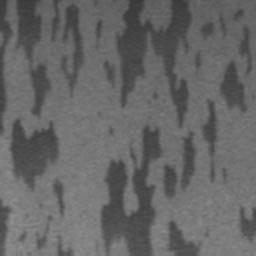Red iron sheet: (97, 0, 244, 256), (0, 0, 83, 192), (17, 178, 73, 256), (220, 26, 256, 113), (168, 220, 198, 256), (0, 196, 13, 256), (239, 207, 256, 242), (95, 19, 102, 38)
